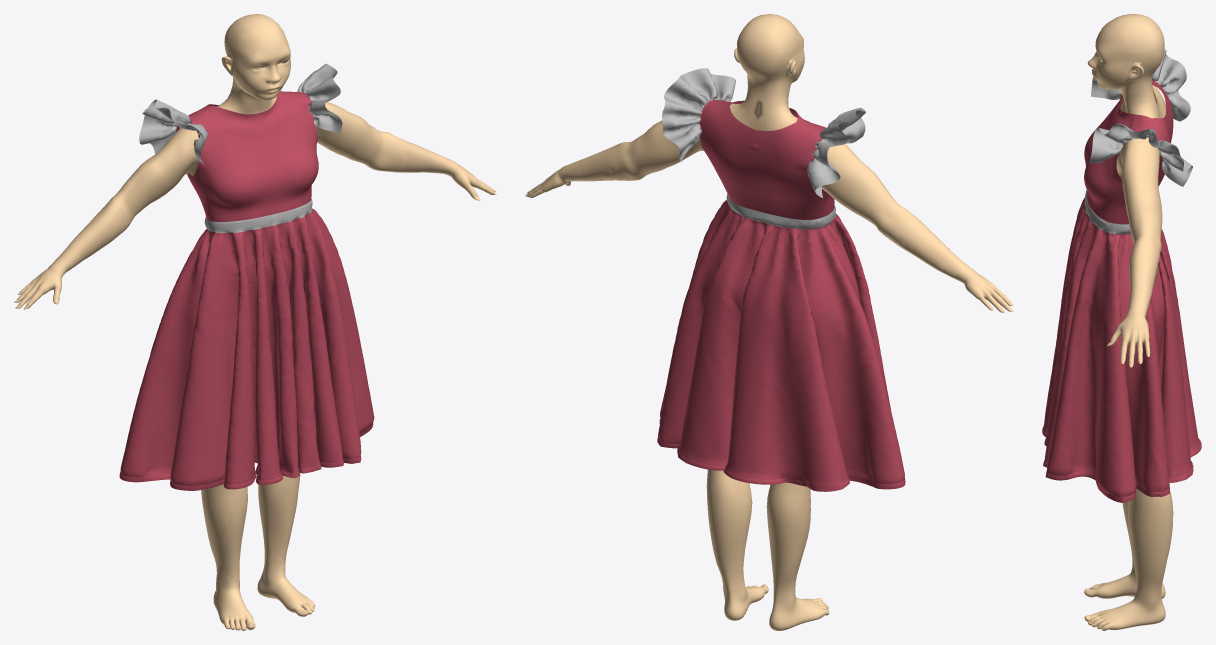
Rendered from dress4.glb.
The picture shows the model from 3 angles, left to right: view 1: azimuth 30°, elevation 25°; view 2: azimuth 150°, elevation 25°; view 3: azimuth 270°, elevation 25°; orthographic projection.
Parts seen in each view (by area): view 1: PinkDrees#14 (OBJ), Body; view 2: PinkDrees#14 (OBJ), Body; view 3: PinkDrees#14 (OBJ), Body.
Part boxes in pixels (x1=…): PinkDrees#14 (OBJ): x1=119, y1=63, x2=374, y2=490; Body: x1=16, y1=14, x2=496, y2=630; PinkDrees#14 (OBJ): x1=657, y1=68, x2=905, y2=491; Body: x1=526, y1=14, x2=1010, y2=630; PinkDrees#14 (OBJ): x1=1042, y1=49, x2=1201, y2=502; Body: x1=1084, y1=14, x2=1173, y2=630.
Bounding box in the file's own units: 1.58 × 1.85 × 0.451.
